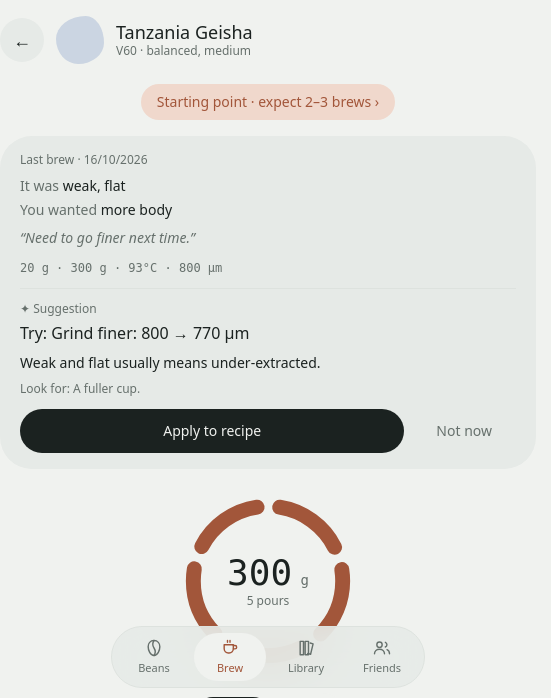
it: Suggest a tweak › folds away with Not now and opens again without asking
What coordinates should you click on to do the following:
click the button "Not now"
I would click on:
 (464, 431)
Its box is [412,409,516,453].
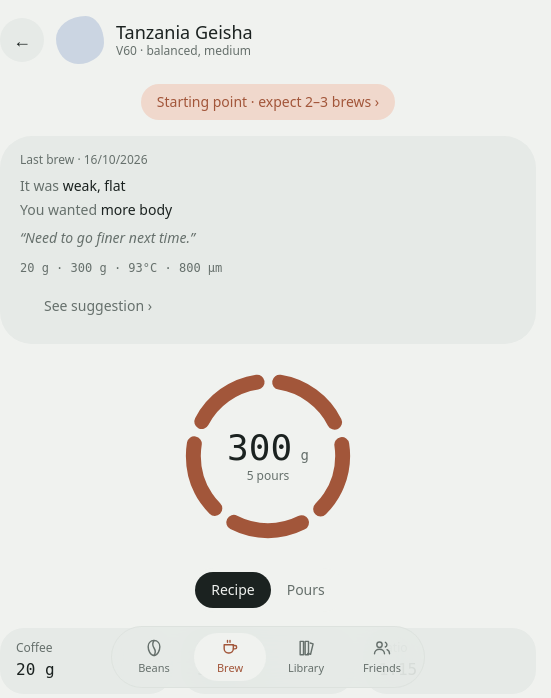
Now the text "Weak and flat usually means under-extracted." is gone
What coordinates should you click on to do the following:
click the button "See suggestion ›"
I would click on:
 (98, 306)
Its box is [20,284,176,328].
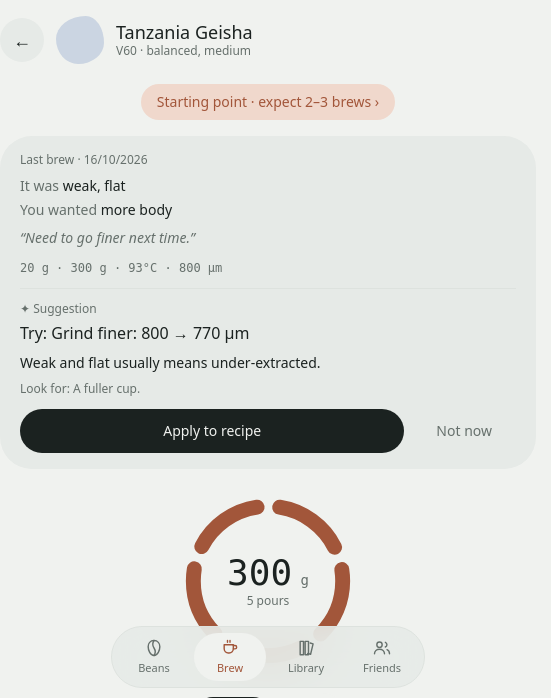
Now the text "Weak and flat usually means under-extracted." is shown, box [20,353,321,372]
